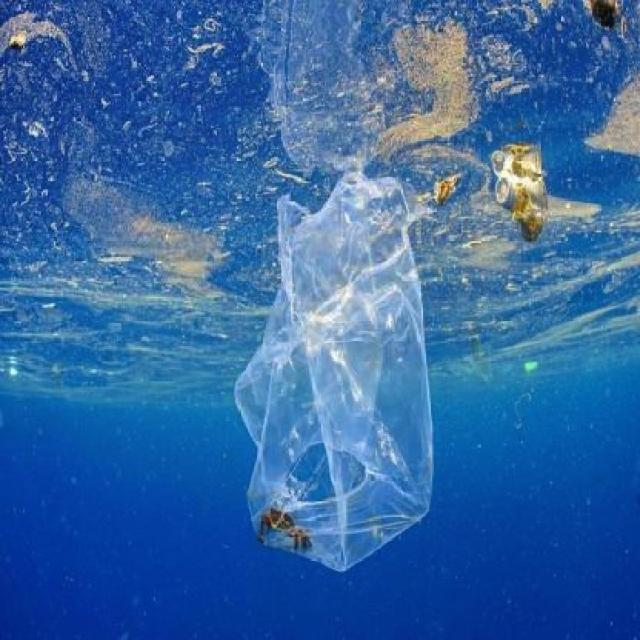pbag: (231, 169, 435, 571)
plastic: (495, 168, 547, 248)
